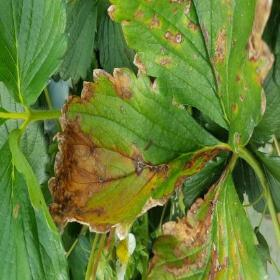Angular Leafspot: (47, 67, 232, 240), (107, 0, 276, 154), (147, 153, 270, 279)
